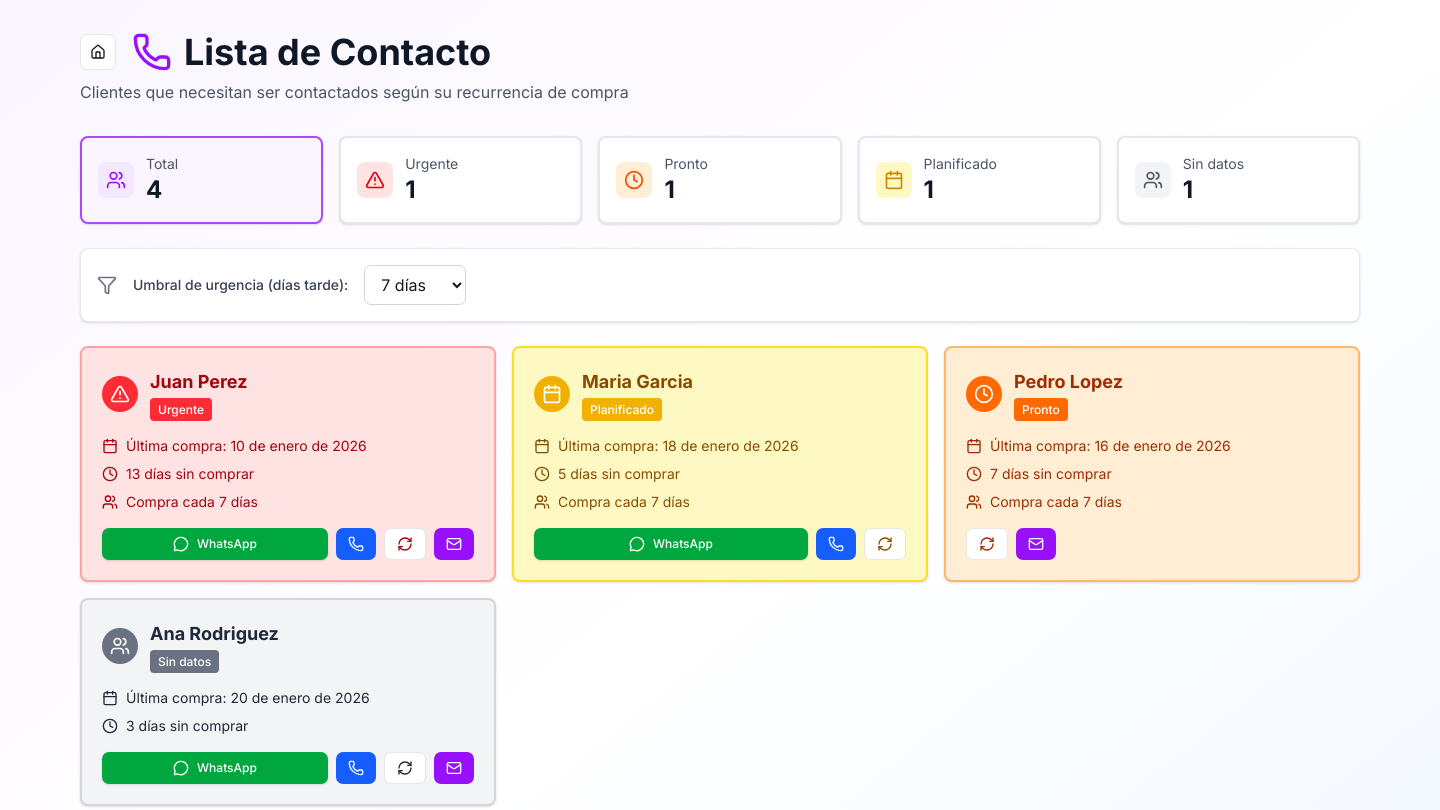
Test: ContactosPage › Urgency Filter › should filter by clicking on stats cards
The width and height of the screenshot is (1440, 810).
Check: the text "Total" is shown, box [146, 154, 178, 174]
Check: the heading "Juan Perez" is shown, box [150, 368, 248, 396]
// Find and click the "Urgente" stat card in the stats section (first one)
Click the text "Urgente" at (461, 180), box [339, 136, 582, 224]
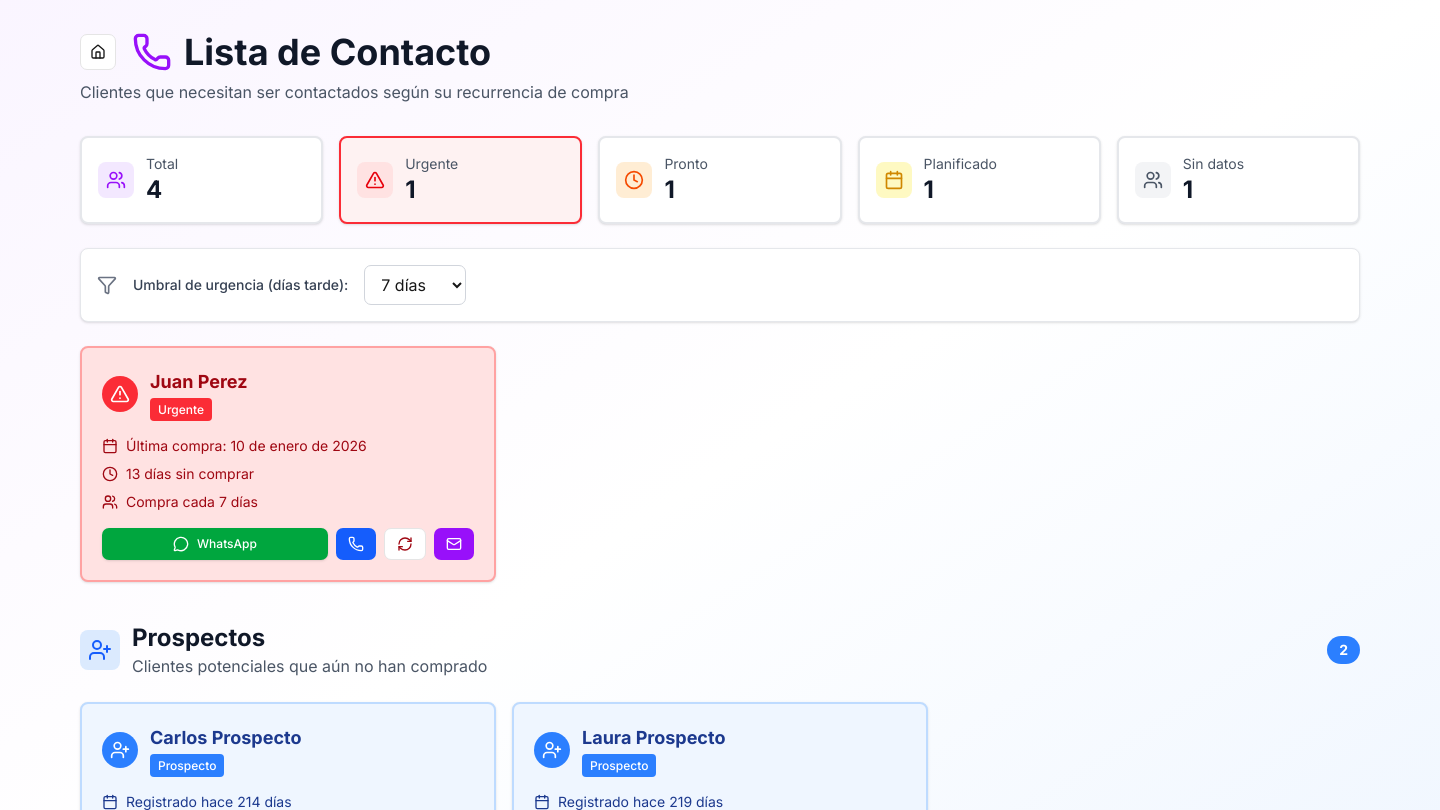
Check: the heading "Juan Perez" is shown, box [150, 368, 248, 396]
Check: the heading "Maria Garcia" is gone
